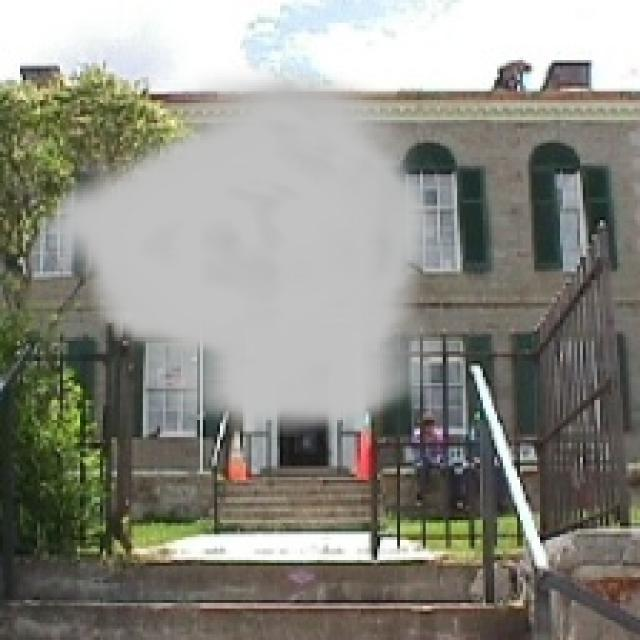Smoke: (43, 60, 440, 437)
